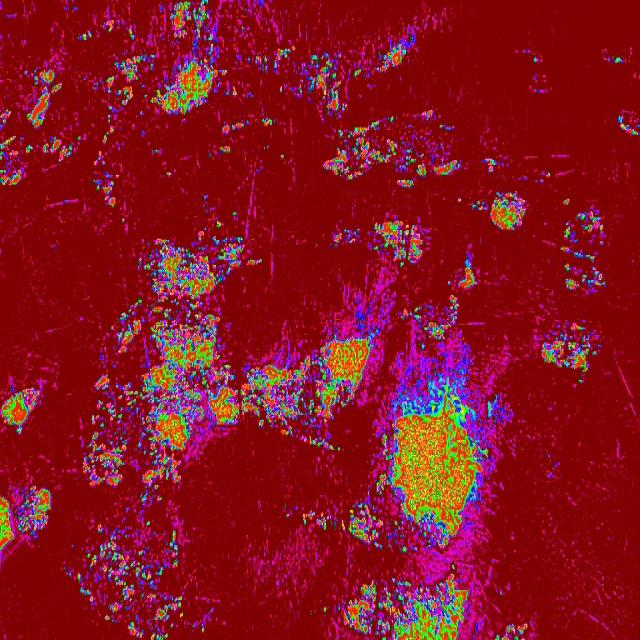fire: (91, 326, 382, 444), (380, 367, 502, 555), (60, 527, 182, 640), (118, 233, 244, 326), (152, 0, 228, 121), (323, 123, 463, 187), (340, 574, 473, 640), (560, 206, 608, 295), (538, 322, 604, 383), (294, 53, 346, 124), (0, 484, 51, 554), (104, 52, 152, 124), (134, 444, 184, 504), (399, 297, 464, 338), (372, 220, 426, 266), (25, 70, 64, 130), (345, 489, 380, 546), (0, 109, 24, 191), (2, 382, 40, 433), (84, 445, 128, 486), (375, 34, 416, 74), (489, 188, 528, 228), (298, 507, 344, 532), (92, 174, 118, 210), (491, 617, 529, 640), (328, 226, 362, 250), (41, 135, 72, 161), (456, 255, 475, 290), (270, 48, 294, 72), (618, 112, 640, 136), (416, 108, 442, 122), (220, 121, 246, 135), (468, 198, 488, 214), (215, 141, 232, 158), (482, 156, 498, 172), (254, 54, 268, 72), (100, 125, 114, 143), (610, 52, 626, 66), (77, 29, 93, 43), (539, 170, 554, 184), (247, 256, 264, 268), (262, 114, 276, 128), (99, 19, 115, 31), (281, 504, 292, 520), (383, 114, 398, 124), (327, 444, 342, 454), (196, 622, 208, 634), (126, 24, 135, 40), (352, 66, 362, 80), (228, 87, 239, 98), (561, 195, 572, 205), (530, 54, 540, 64), (73, 134, 83, 144), (214, 219, 223, 229), (24, 144, 32, 155), (153, 146, 160, 156), (451, 562, 457, 573), (164, 170, 172, 178), (202, 224, 210, 232), (456, 196, 463, 205), (240, 24, 246, 34), (145, 519, 153, 526), (279, 152, 287, 159), (120, 216, 126, 225), (322, 604, 327, 614), (202, 194, 210, 200), (447, 280, 452, 288), (232, 210, 238, 216)
